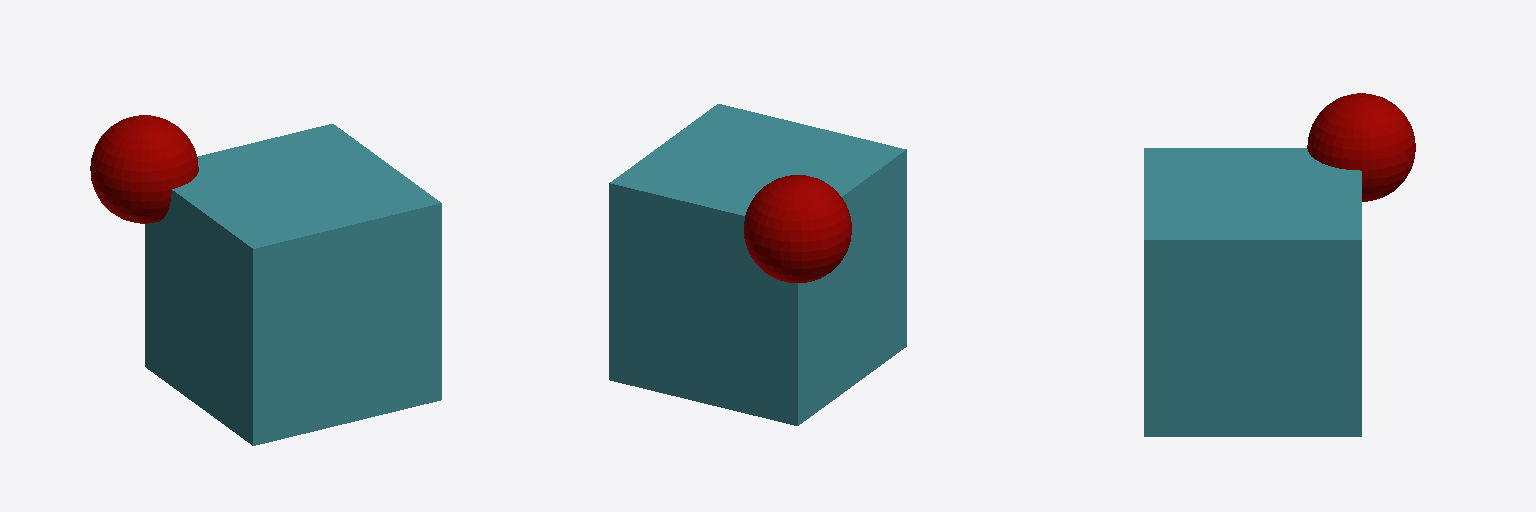
Rendered from blocktesttile.obj.
3 renders of one model, left to right at view 1: azimuth 30°, elevation 25°; view 2: azimuth 150°, elevation 25°; view 3: azimuth 270°, elevation 25°, orthographic.
Parts seen in each view (by area): view 1: Cube, Sphere; view 2: Cube, Sphere; view 3: Cube, Sphere.
Boxes of the visible parts, <box> form: Cube: <box>145,124,441,445</box>; Sphere: <box>90,115,198,223</box>; Cube: <box>609,104,906,425</box>; Sphere: <box>744,175,851,282</box>; Cube: <box>1144,148,1361,436</box>; Sphere: <box>1307,93,1415,201</box>.
Size of the model in its own units: 1.25 by 1.25 by 1.25.